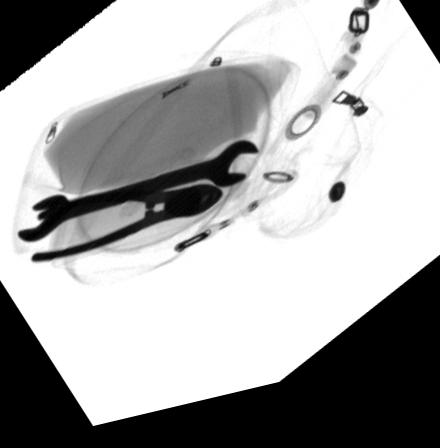Pliers: (29, 192, 224, 264)
Wrench: (15, 150, 258, 243)
